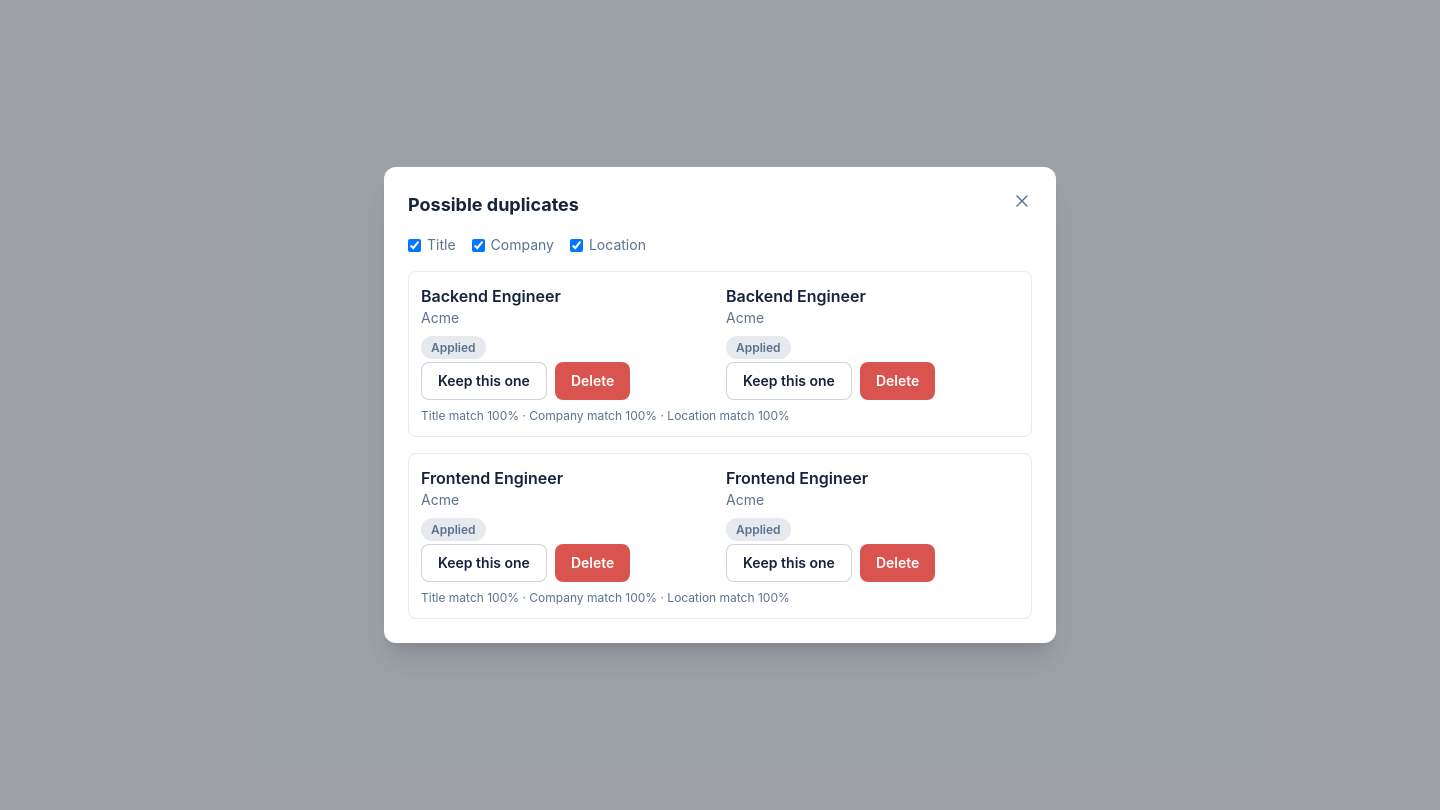
Test: DuplicatesReviewModal › resolving one pair leaves other pairs untouched (edge case)
Click the 1st button "Keep this one". click: coordinates (484, 381)
box: [421, 362, 547, 400]
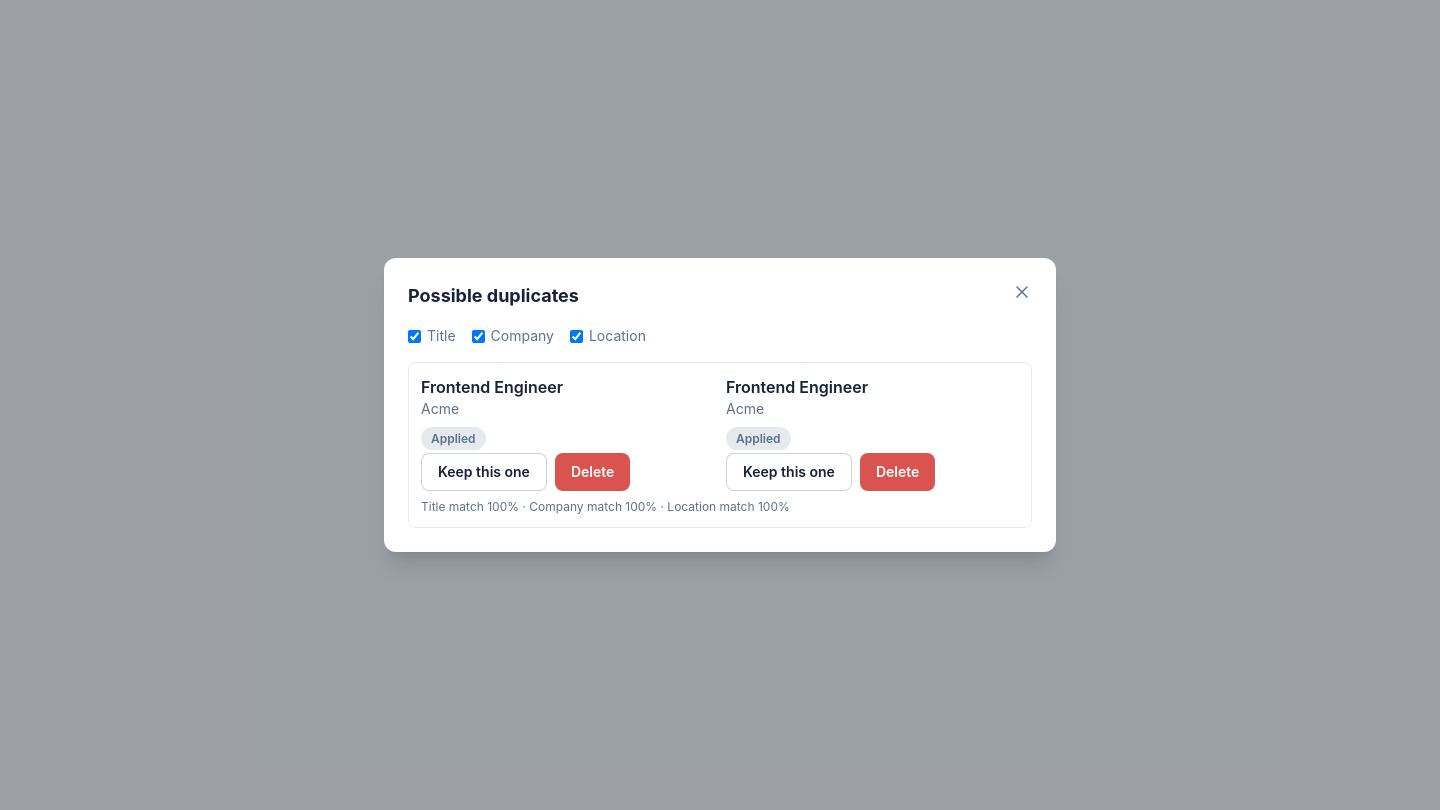
Result: the number of links "Frontend Engineer" is 2 at [421, 377, 563, 397]; [726, 377, 868, 397]
